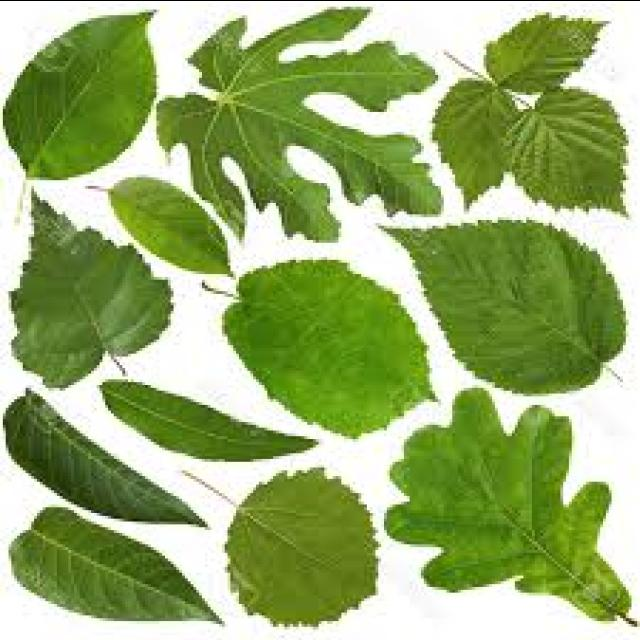leaves: (156, 9, 439, 234), (386, 389, 628, 619), (389, 224, 624, 392), (434, 15, 624, 208), (229, 261, 432, 436), (11, 198, 171, 385), (9, 391, 202, 521), (5, 14, 154, 178), (226, 469, 376, 622), (11, 510, 216, 619), (101, 382, 313, 458), (109, 176, 232, 272)
